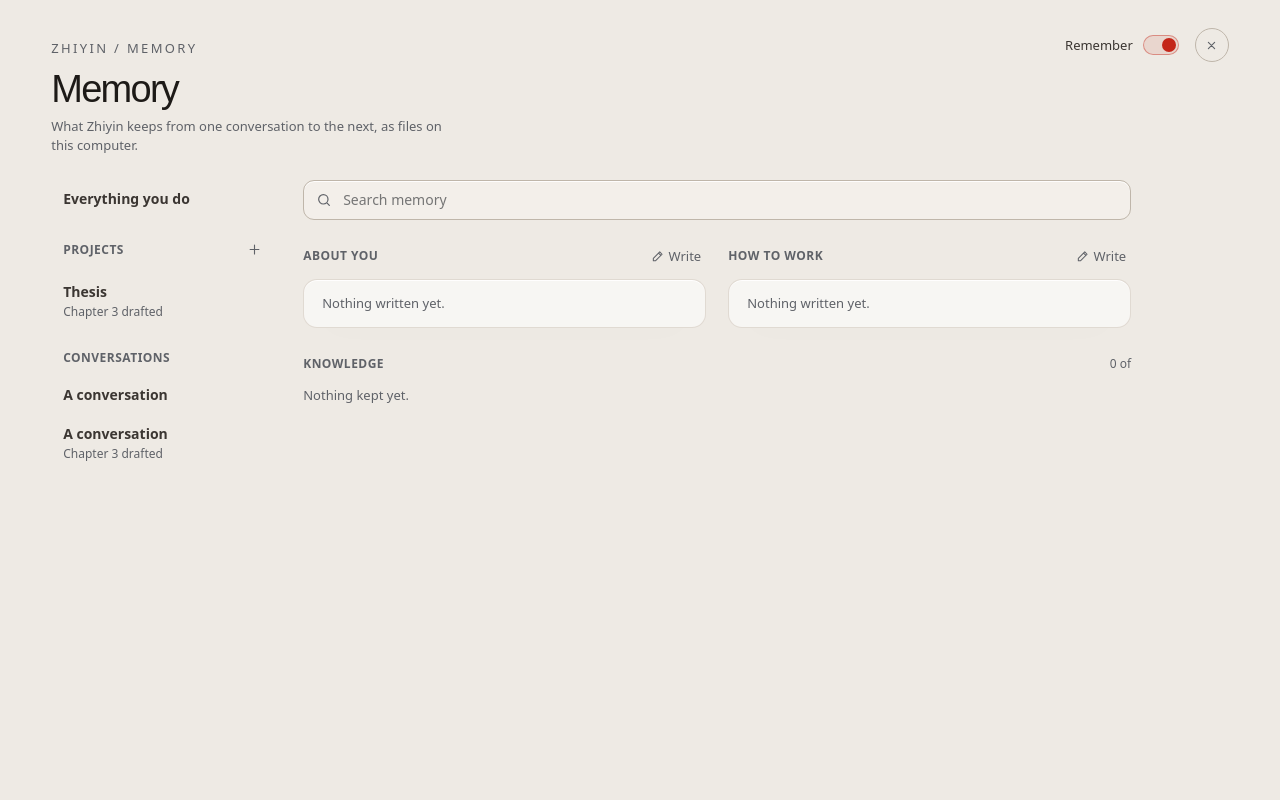
Test: memory page › shows a link to an entry no longer kept as plain text
The width and height of the screenshot is (1280, 800).
Click the button "Thesis Chapter 3 drafted" at (161, 301), box [51,273,271,329]
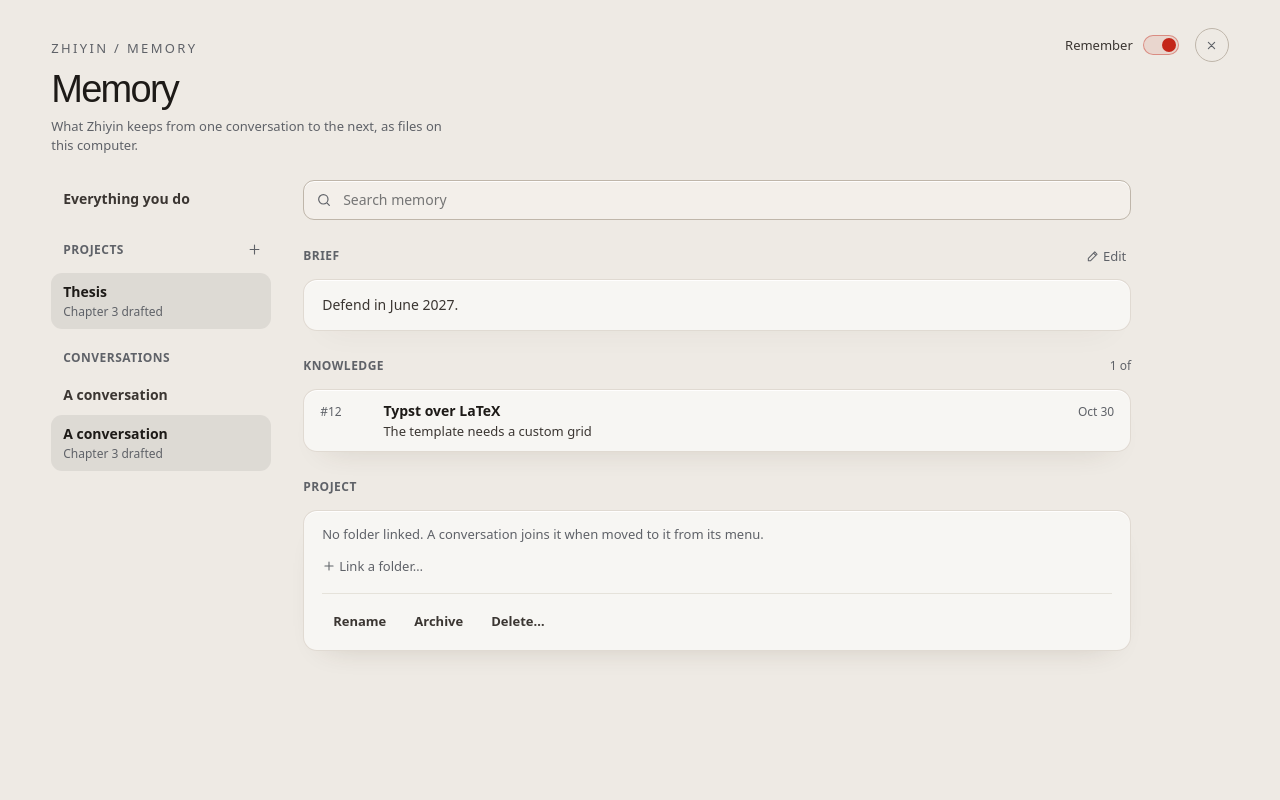
Click the button "#12 Typst over LaTeX The template needs a custom grid Oct 30" at (442, 410), box [304,390,1130,451]
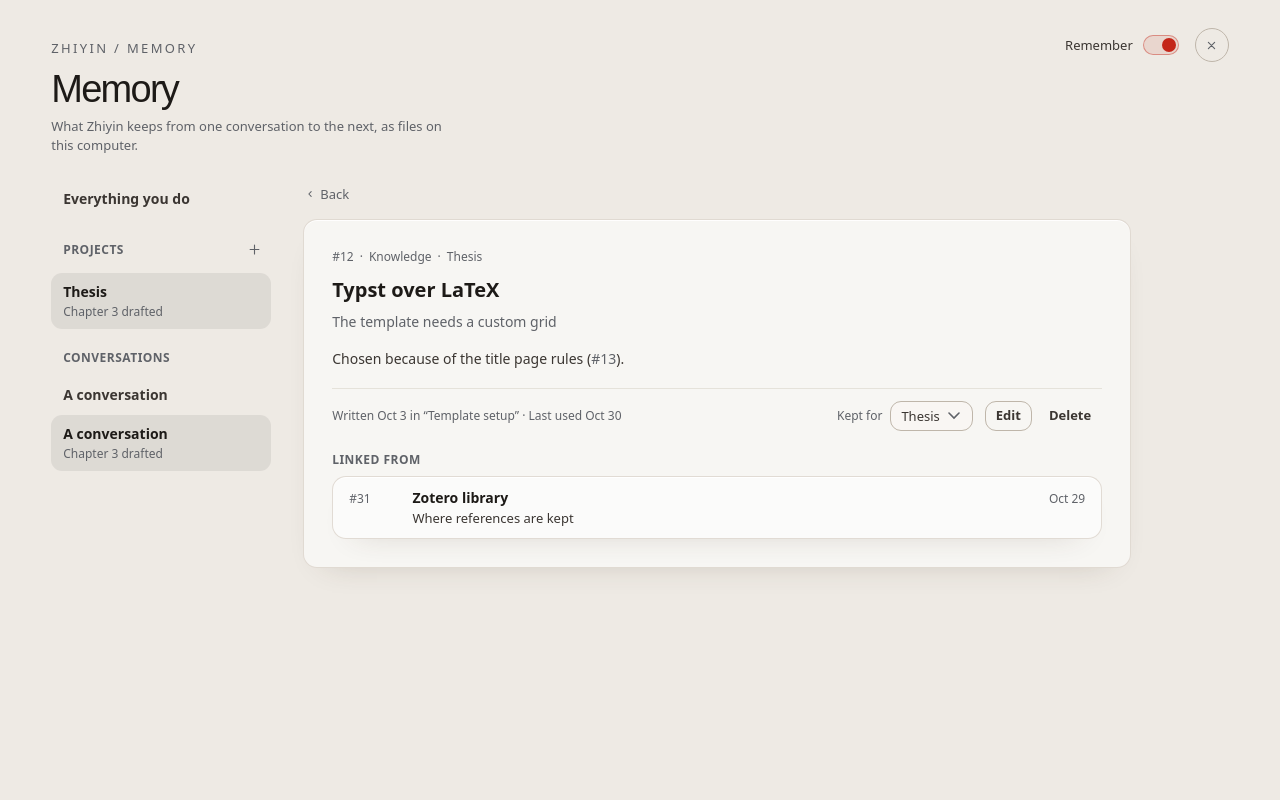
Expected: the text "#13" is shown, [591,349,616,368]
